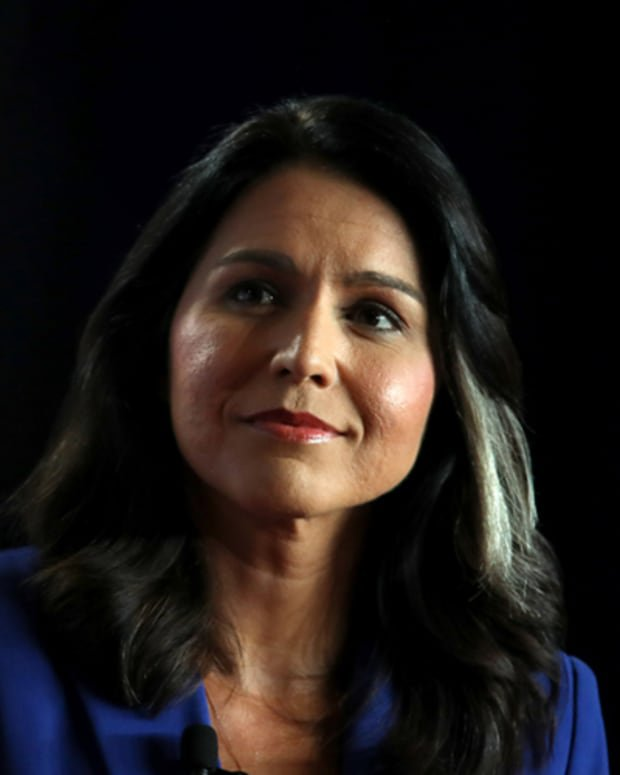noMask: (140, 82, 507, 546)
